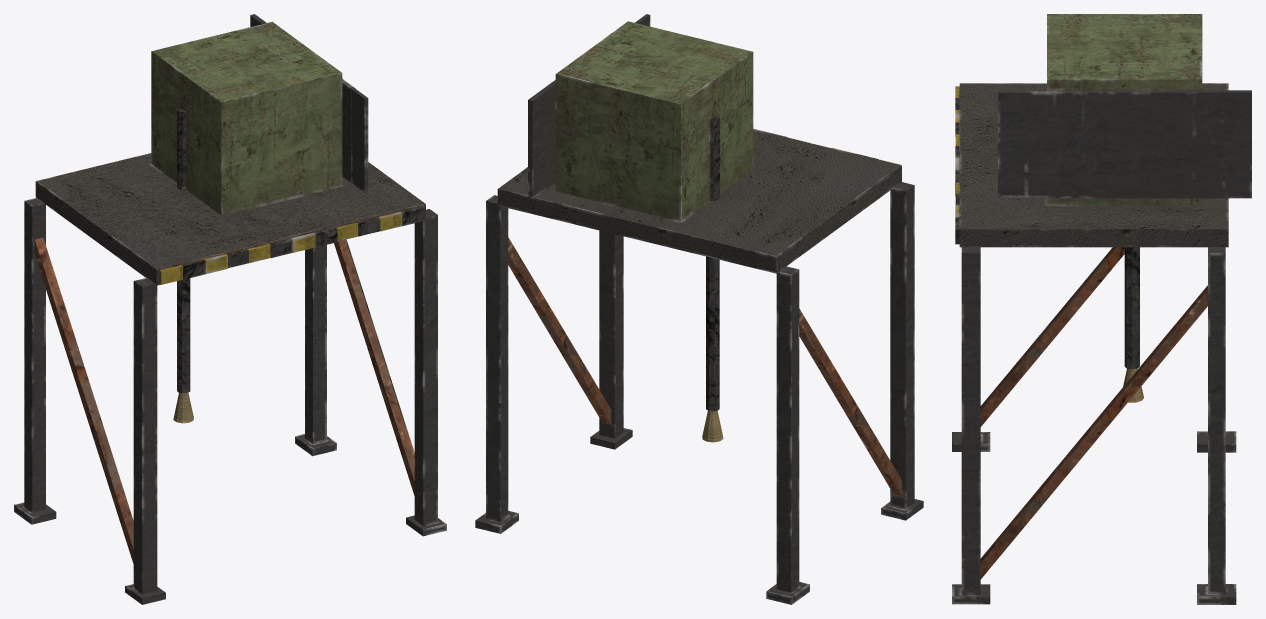
Rendered from feWelder_HD.fbx.
The picture shows the model from 3 angles, left to right: view 1: azimuth 30°, elevation 25°; view 2: azimuth 150°, elevation 25°; view 3: azimuth 270°, elevation 25°; orthographic projection. The views are drawn at different scales.
Parts seen in each view (by area): view 1: feWelder_Base, FeReach_Legs, FeReach_Torch; view 2: feWelder_Base, FeReach_Legs, FeReach_Torch; view 3: feWelder_Base, FeReach_Legs, FeReach_Torch.
Boxes of the visible parts, x1,y1,x2,y2 form: feWelder_Base: (35, 14, 425, 285); FeReach_Legs: (14, 198, 446, 604); FeReach_Torch: (173, 185, 193, 423); feWelder_Base: (497, 14, 901, 273); FeReach_Legs: (475, 182, 923, 604); FeReach_Torch: (702, 196, 723, 442); feWelder_Base: (955, 14, 1251, 247); FeReach_Legs: (952, 246, 1236, 604); FeReach_Torch: (1123, 247, 1143, 402).
Bounding box in the file's own units: 1.02 × 1.41 × 0.7815.
1 material, 1 textured.
